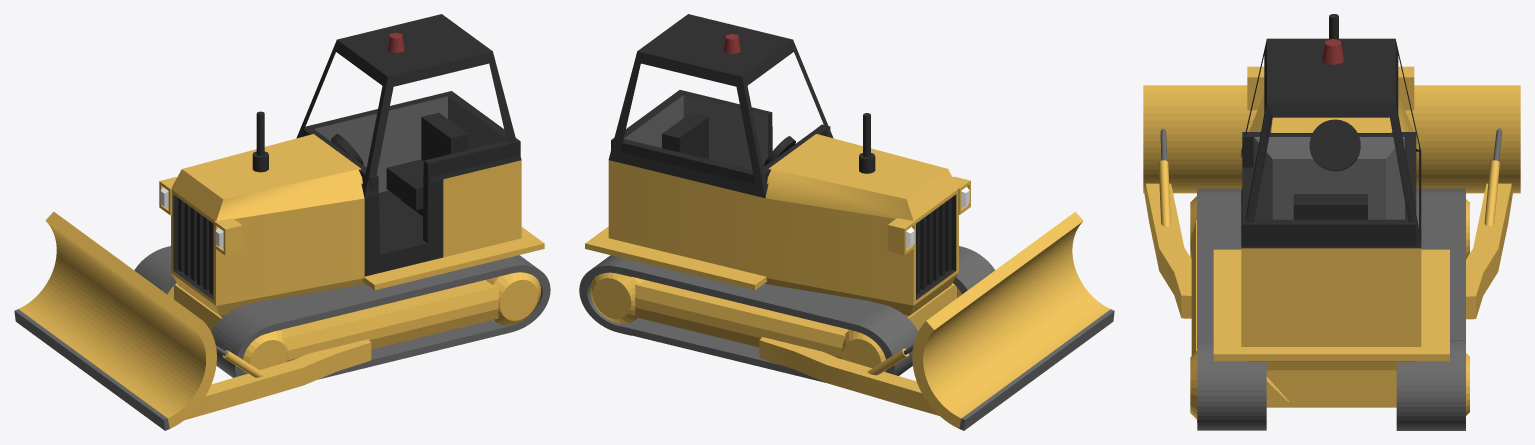
The model's file is Bulldozer.glb.
The picture shows the model from 3 angles, left to right: view 1: azimuth 30°, elevation 25°; view 2: azimuth 150°, elevation 25°; view 3: azimuth 270°, elevation 25°; orthographic projection. The views are drawn at different scales.
Parts seen in each view (by area): view 1: Box003; view 2: Box003; view 3: Box003.
Part boxes in pixels (box(x1,y1,x2,y2)): Box003: box(14, 14, 550, 430); Box003: box(579, 14, 1114, 430); Box003: box(1143, 14, 1520, 430).
Size of the model in its own units: 31.57 by 20.13 by 20.
